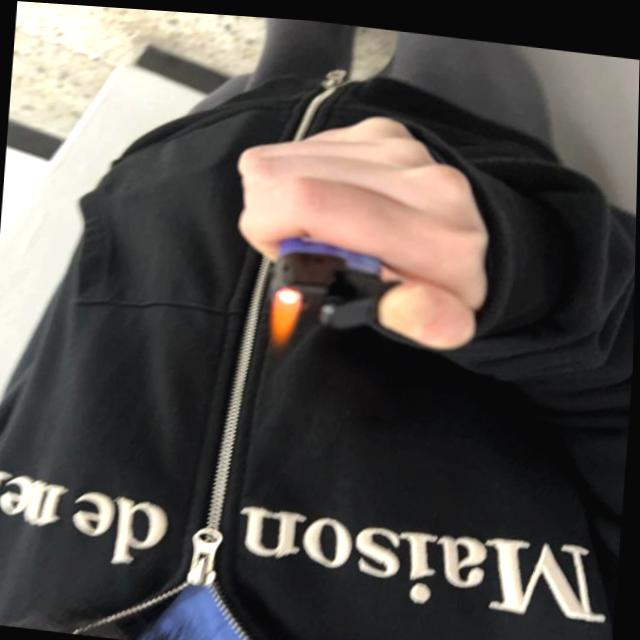Fire: (265, 278, 305, 348)
